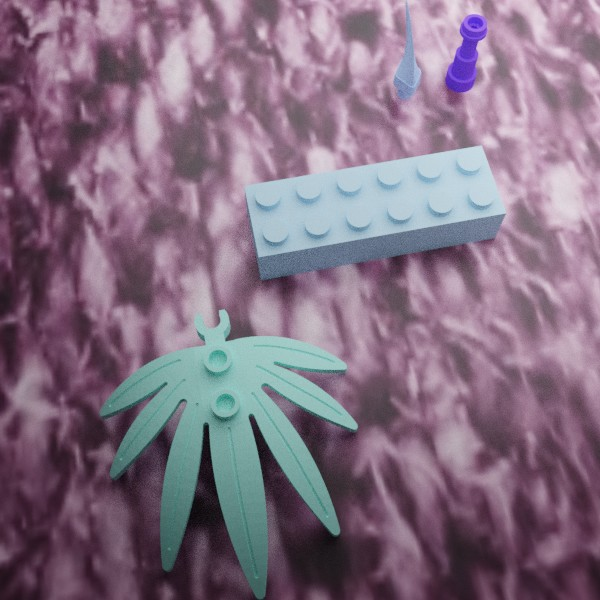lego: (99, 309, 357, 599), (244, 145, 506, 280), (445, 13, 487, 92), (393, 0, 421, 99)
